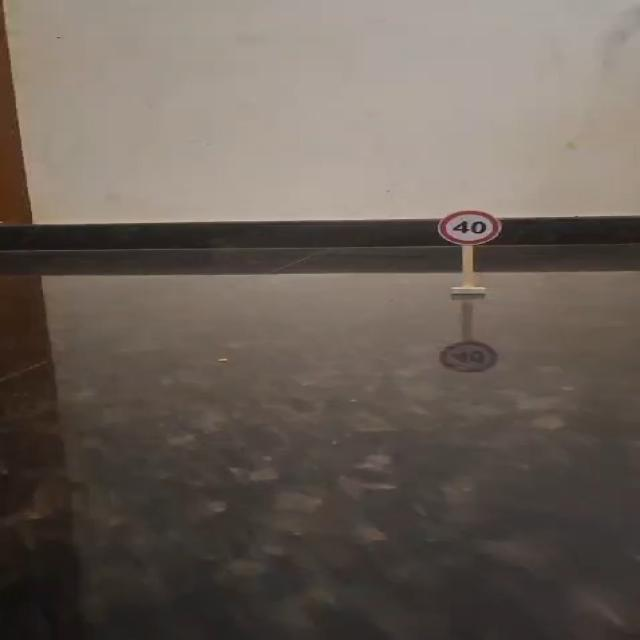Speed40: (436, 208, 504, 246)
